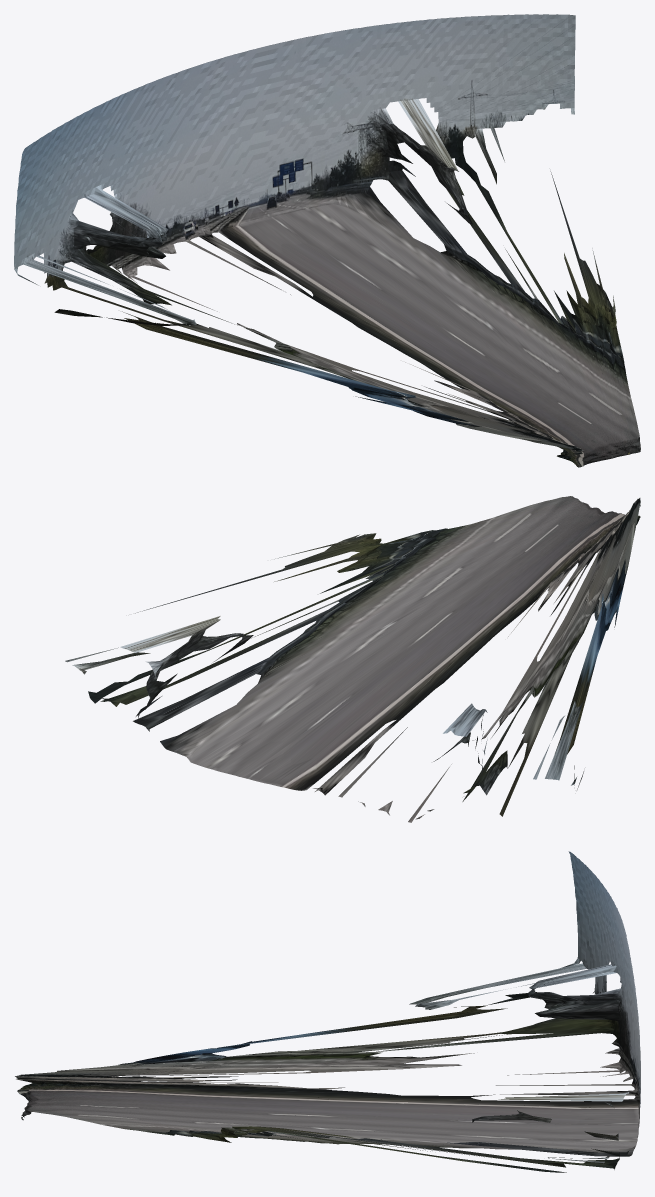
The picture shows the model from 3 angles, top to bottom: view 1: azimuth 30°, elevation 25°; view 2: azimuth 150°, elevation 25°; view 3: azimuth 270°, elevation 25°; orthographic projection. The views are drawn at different scales.
Visible parts, largest first — view 1: defaultobject; view 2: defaultobject; view 3: defaultobject.
Boxes of the visible parts, x1=… form: defaultobject: x1=14, y1=14, x2=640, y2=467; defaultobject: x1=65, y1=496, x2=640, y2=822; defaultobject: x1=15, y1=851, x2=640, y2=1172.
Size of the model in its own units: 41.12 by 13.5 by 44.9.
Materials: 1 (1 with a texture image).
